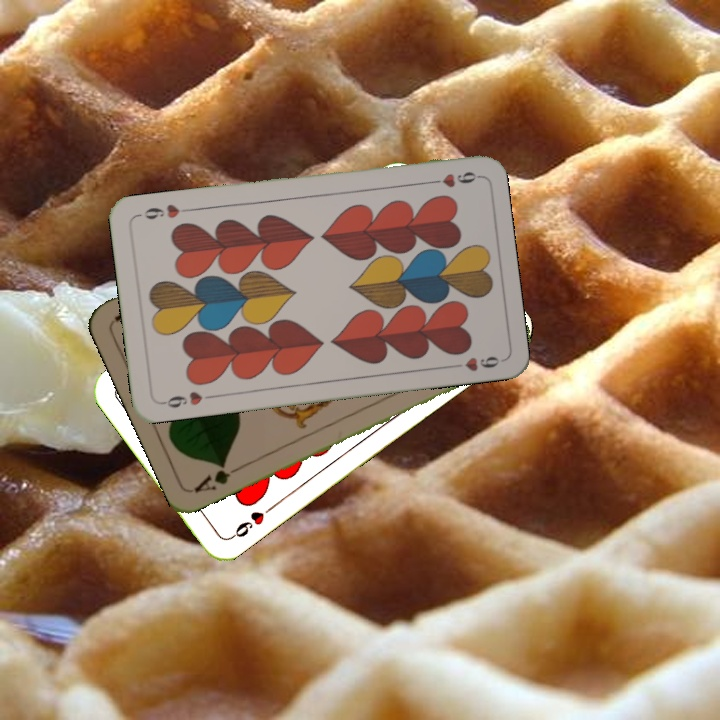GA: (190, 458, 245, 496)
H9: (226, 501, 277, 542), (157, 387, 216, 411), (422, 167, 481, 190)
